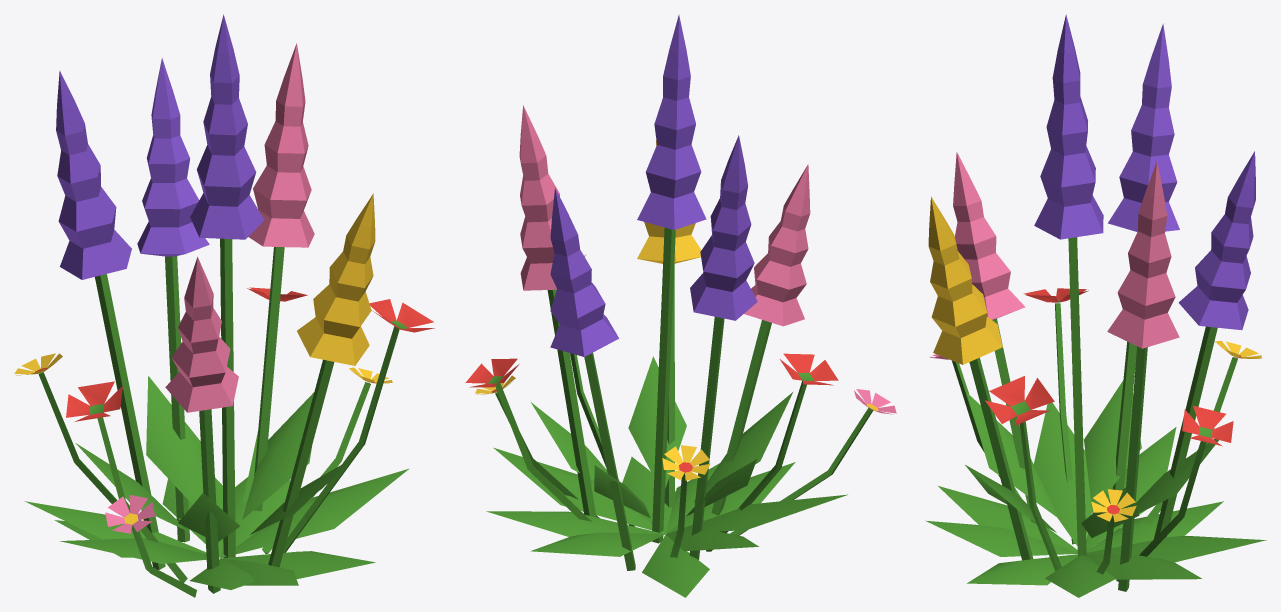
File: wildflower_bush.glb
The picture shows the model from 3 angles, left to right: view 1: azimuth 30°, elevation 25°; view 2: azimuth 150°, elevation 25°; view 3: azimuth 270°, elevation 25°; orthographic projection. The views are drawn at different scales.
Visible parts, largest first — view 1: wildflower_bush; view 2: wildflower_bush; view 3: wildflower_bush.
Boxes of the visible parts, x1,y1,x2,y2 form: wildflower_bush: (14, 14, 434, 597); wildflower_bush: (465, 15, 896, 597); wildflower_bush: (925, 14, 1266, 597).
Bounding box in the file's own units: 0.8046 × 1.19 × 0.669.
